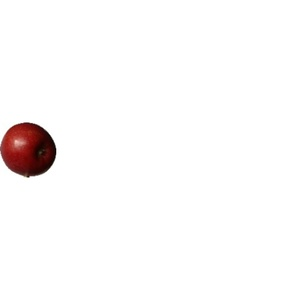maçã braeburn: (1, 116, 60, 180)
